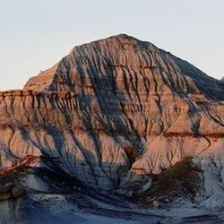neutral: (5, 9, 224, 223)
